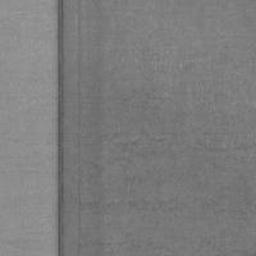Welding line: (56, 0, 65, 256)
